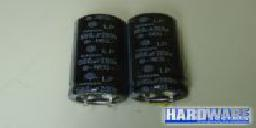Electrolytic-Capacitor: (127, 13, 200, 108), (68, 11, 130, 108)
